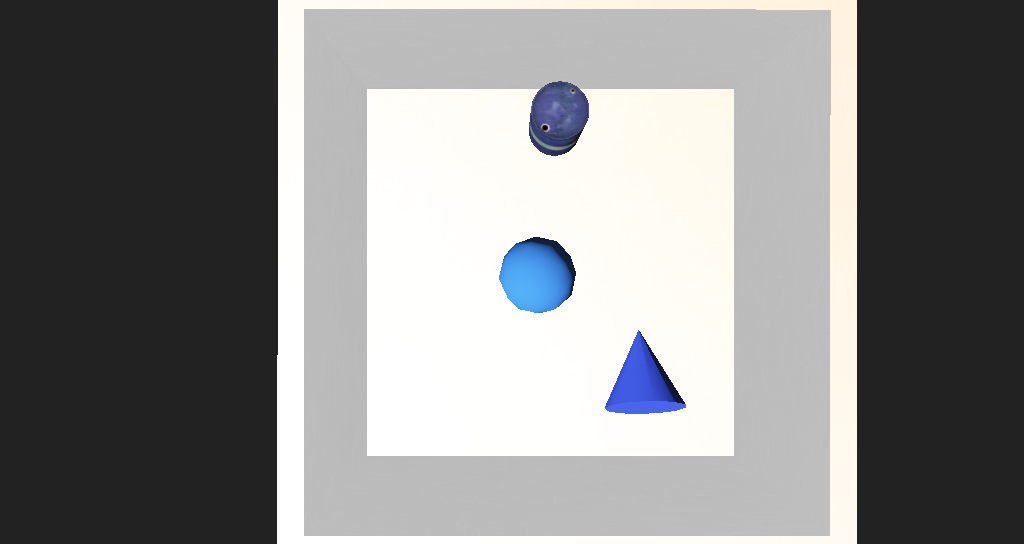cone: (488, 160, 536, 203)
cylinder: (546, 291, 613, 358)
sphere: (458, 251, 525, 293)
